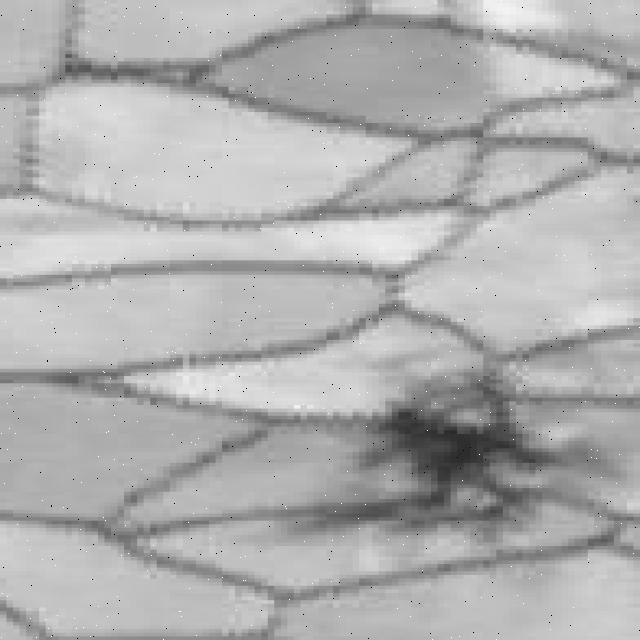good_void: (275, 366, 577, 542)
